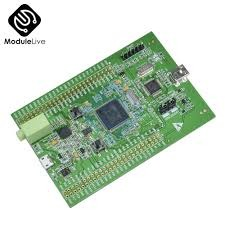STM32F4-DISC: (11, 26, 219, 225)
